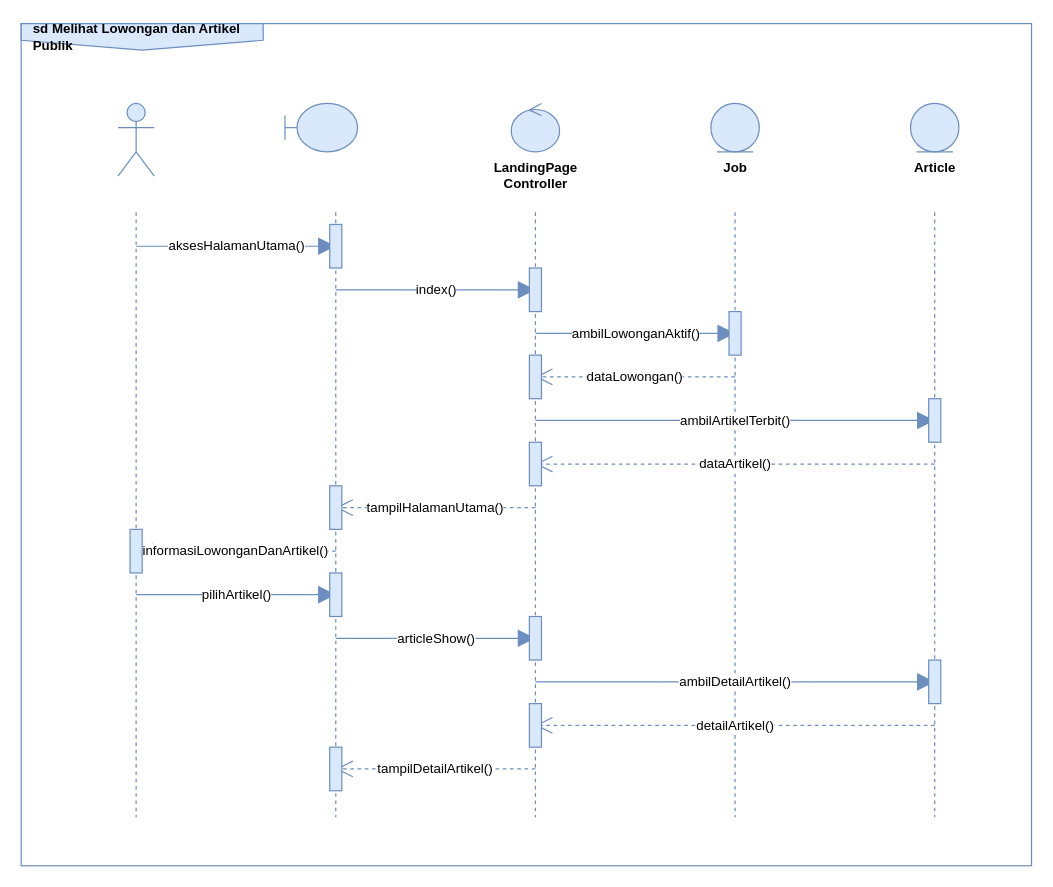
This 1053x887 diagram has some shape labels left out. The centre of each missing label's shape, as x and y in pixels:
Halaman Publik: point 321,127
Pengunjung: point 135,139
